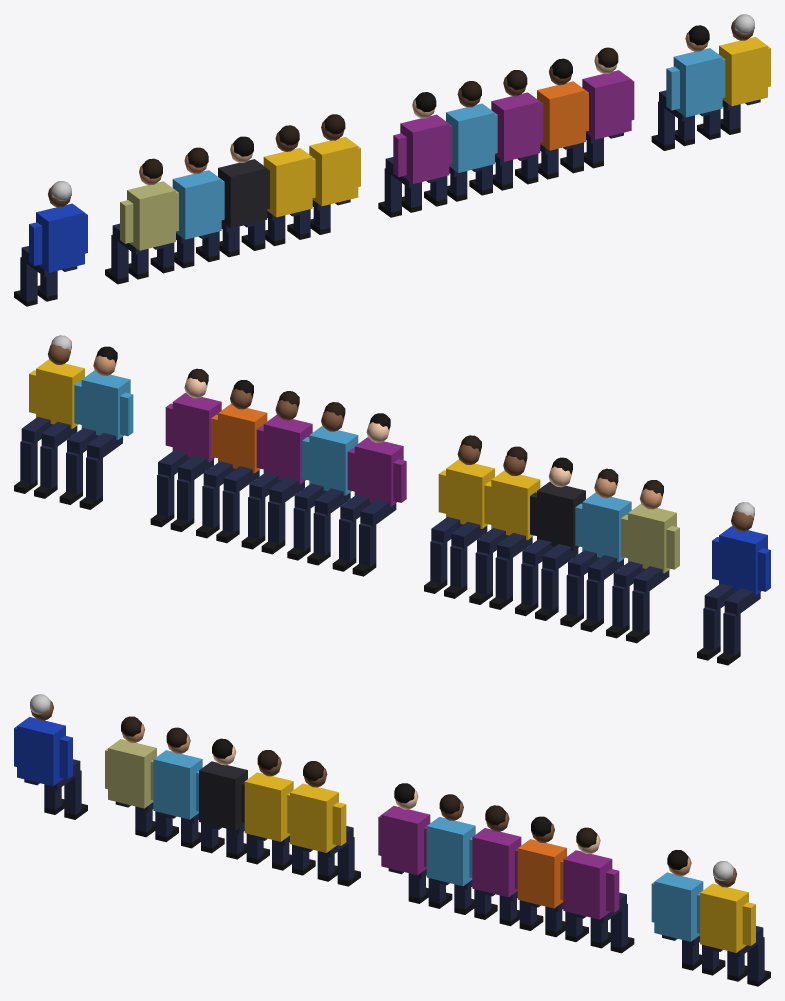
The model's file is Fila2.obj.
3 views of the same model, one above another, from view 1: azimuth 30°, elevation 25°; view 2: azimuth 150°, elevation 25°; view 3: azimuth 330°, elevation 25° (orthographic).
Parts seen in each view (by area): view 1: Fila2; view 2: Fila2; view 3: Fila2.
Part boxes in pixels (x1,y1,x2,y2): Fila2: [14, 14, 770, 306]; Fila2: [14, 335, 770, 665]; Fila2: [14, 694, 770, 986].
Size of the model in its own units: 8.09 by 1.42 by 0.7127.
1 material, 1 textured.
